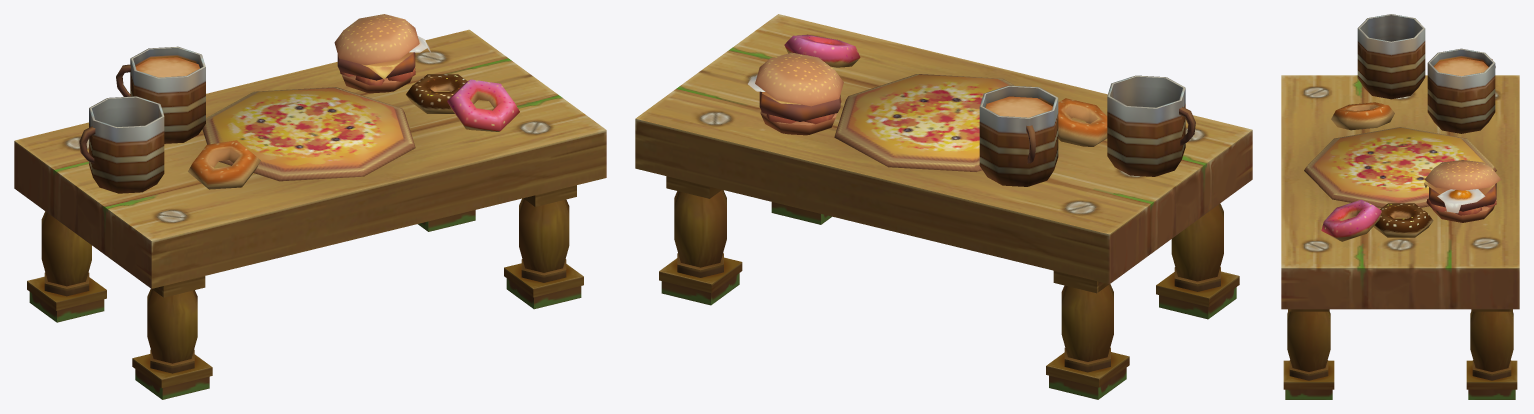
The model's file is map_1001_czzj_19.FBX.
3 views of the same model, side by side, from view 1: azimuth 30°, elevation 25°; view 2: azimuth 150°, elevation 25°; view 3: azimuth 270°, elevation 25° (orthographic). The views are drawn at different scales.
Parts seen in each view (by area): view 1: map_1001_czzj_19; view 2: map_1001_czzj_19; view 3: map_1001_czzj_19.
Boxes of the visible parts, x1,y1,x2,y2 form: map_1001_czzj_19: (14, 14, 606, 399); map_1001_czzj_19: (635, 14, 1252, 399); map_1001_czzj_19: (1281, 14, 1519, 399).
Size of the model in its own units: 2.96 by 1.45 by 1.52.
